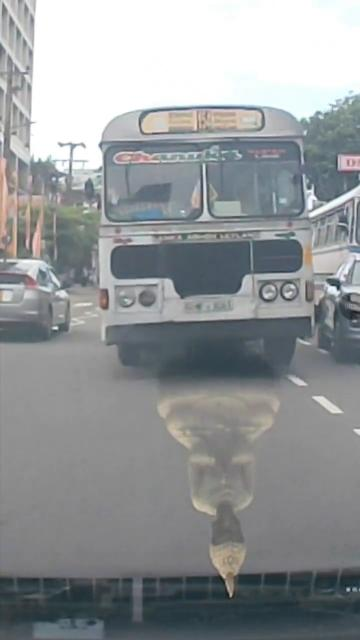illegal overtaking: (79, 96, 335, 370)
